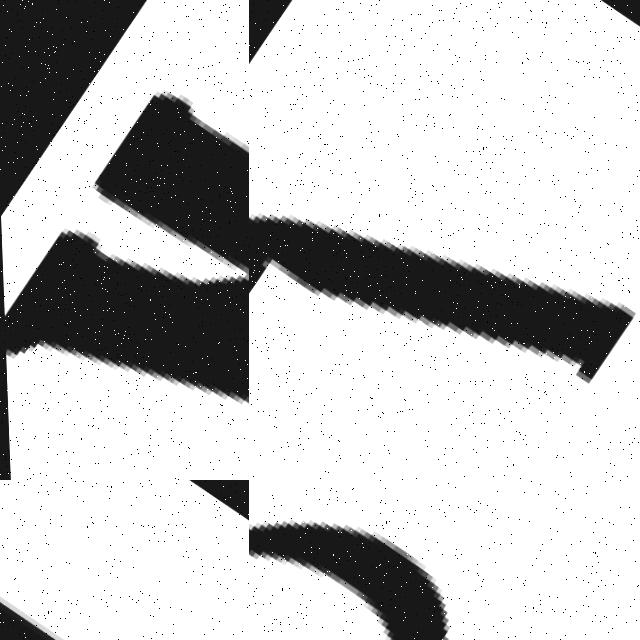6: (249, 480, 640, 640)
J: (249, 39, 640, 480)
K: (0, 0, 249, 480)
Q: (0, 480, 249, 640)
